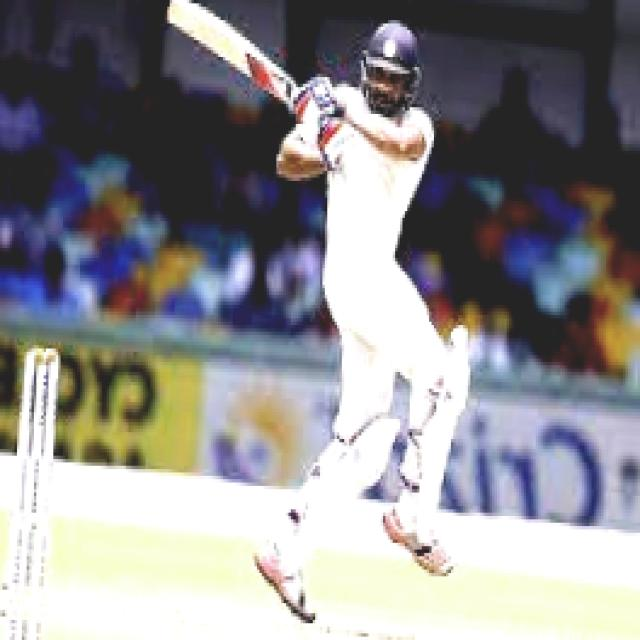toe: (162, 0, 185, 28)
